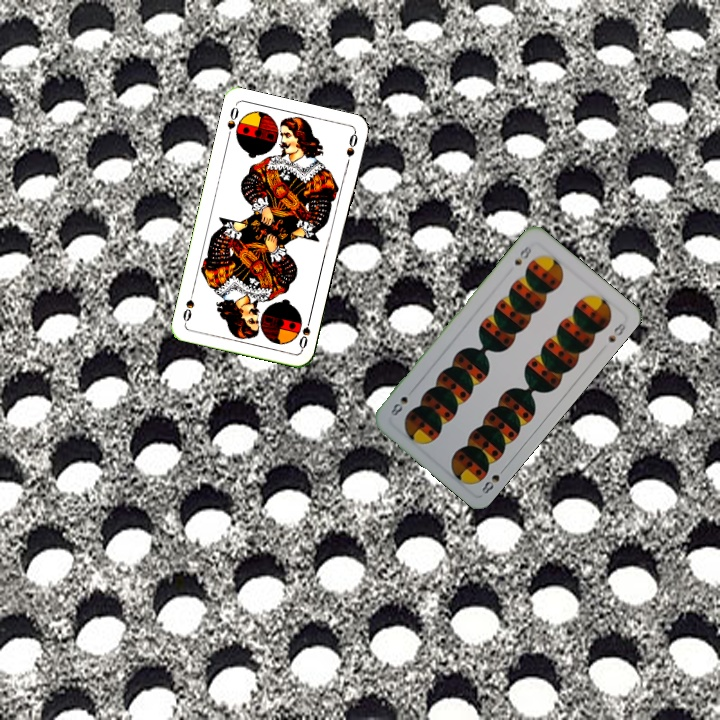S8: (477, 462, 509, 498), (510, 242, 534, 268)
SO: (295, 312, 314, 352), (223, 101, 241, 141)
